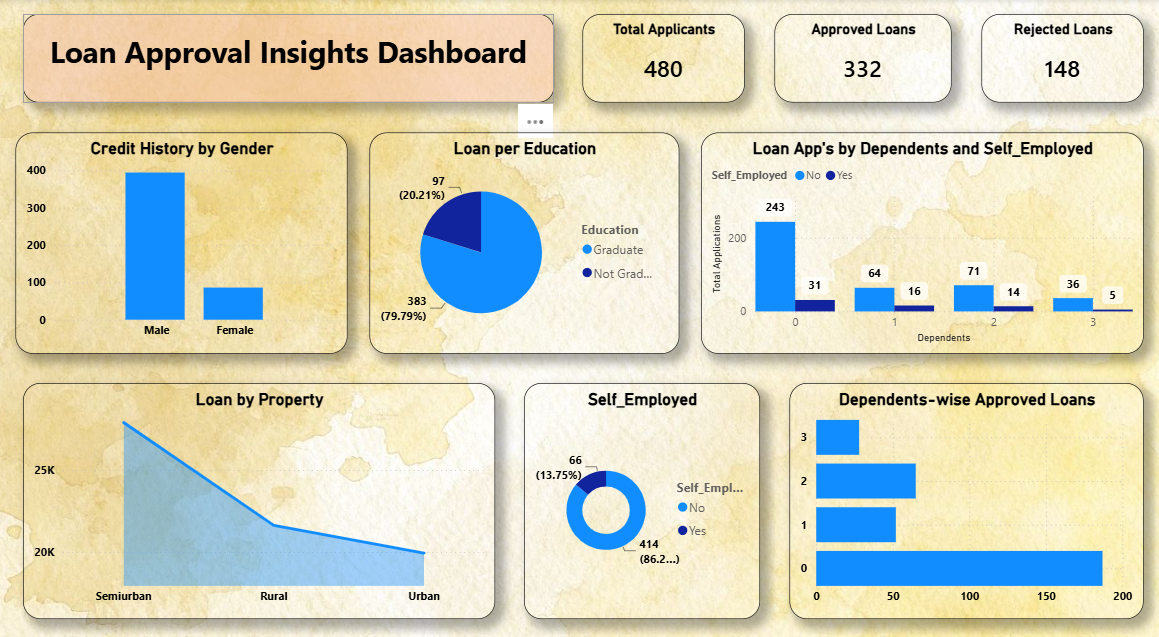

The dashboard page shown, as its layout file describes it:
{"tool":"powerbi","page":{"name":"Dashboard","canvas":[1280,720],"ordinal":0},"visuals":[{"type":"columnChart","title":"Credit History by Gender","fields":{"Category":["loan.Gender"],"Y":["CountNonNull(loan.Credit History Status)"]},"box":[24,144,360,240],"z":0},{"type":"textbox","box":[32,16,576,96],"z":1000},{"type":"cardVisual","title":"Total Applicants","fields":{"Data":["loan.Total Applications"]},"box":[640,16,176,96],"z":2000},{"type":"cardVisual","title":"Approved Loans","fields":{"Data":["loan.Approved Loans"]},"box":[848,16,192,96],"z":3000},{"type":"cardVisual","title":"Rejected Loans","fields":{"Data":["loan.Rejected Loans"]},"box":[1072,16,176,96],"z":4000},{"type":"areaChart","title":"Loan by Property","fields":{"Y":["Sum(loan.LoanAmount)"],"Category":["loan.Property_Area"]},"box":[32,416,512,256],"z":5000},{"type":"pieChart","title":"Loan per Education","fields":{"Category":["loan.Education"],"Y":["CountNonNull(loan.Loan Status)"]},"box":[408,144,336,240],"z":6000},{"type":"donutChart","title":"Self_Employed","fields":{"Category":["loan.Self_Employed"],"Y":["loan.Total Applications"]},"box":[576,416,256,256],"z":7000},{"type":"lineClusteredColumnComboChart","title":"Loan App''s by Dependents and Self_Employed","fields":{"Category":["loan.Dependents"],"Y":["loan.Total Applications"],"Series":["loan.Self_Employed"]},"box":[768,144,480,240],"z":8000},{"type":"barChart","title":"Dependents-wise Approved Loans","fields":{"Category":["loan.Dependents"],"Y":["loan.Approved Loans"]},"box":[864,416,384,256],"z":9000}]}

Visuals, with their boxes in screenshot pixels (x1, y1, x2, y2), scaled from the page's 1280x720 canvas onto the 1159x637 screenshot:
"Credit History by Gender" columnChart: region(22, 127, 348, 340)
textbox: region(29, 14, 551, 99)
"Total Applicants" cardVisual: region(580, 14, 739, 99)
"Approved Loans" cardVisual: region(768, 14, 942, 99)
"Rejected Loans" cardVisual: region(971, 14, 1130, 99)
"Loan by Property" areaChart: region(29, 368, 493, 595)
"Loan per Education" pieChart: region(369, 127, 674, 340)
"Self_Employed" donutChart: region(522, 368, 753, 595)
"Loan App''s by Dependents and Self_Employed" lineClusteredColumnComboChart: region(695, 127, 1130, 340)
"Dependents-wise Approved Loans" barChart: region(782, 368, 1130, 595)
